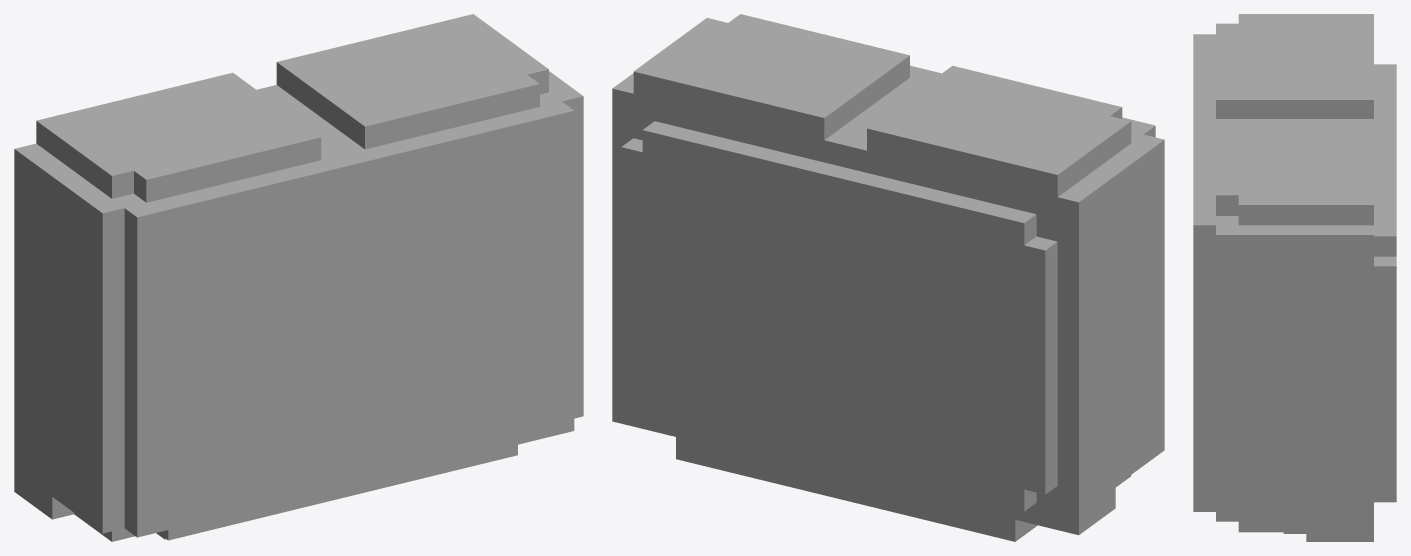
The model's file is gorilla-0-Hip.obj.
The picture shows the model from 3 angles, left to right: view 1: azimuth 30°, elevation 25°; view 2: azimuth 150°, elevation 25°; view 3: azimuth 270°, elevation 25°; orthographic projection. The views are drawn at different scales.
Visible parts, largest first — view 1: Hip; view 2: Hip; view 3: Hip.
Boxes of the visible parts, x1,y1,x2,y2 form: Hip: (14,14,583,541); Hip: (612,14,1164,541); Hip: (1193,14,1396,541).
Bounding box in the file's own units: 2.2 × 1.7 × 0.9.
1 material, 1 textured.
